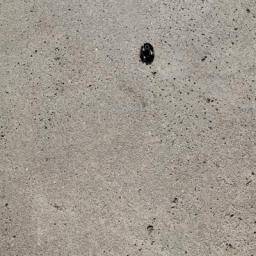FOD: (138, 41, 159, 65)
